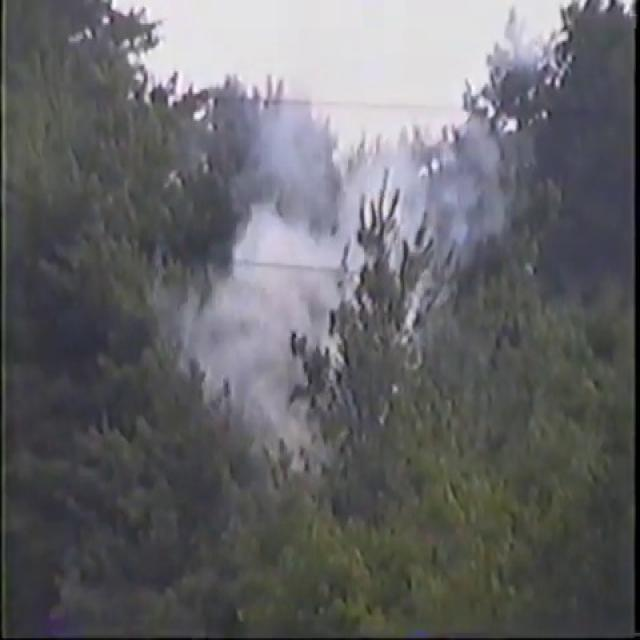Smoke: (179, 8, 466, 458)
